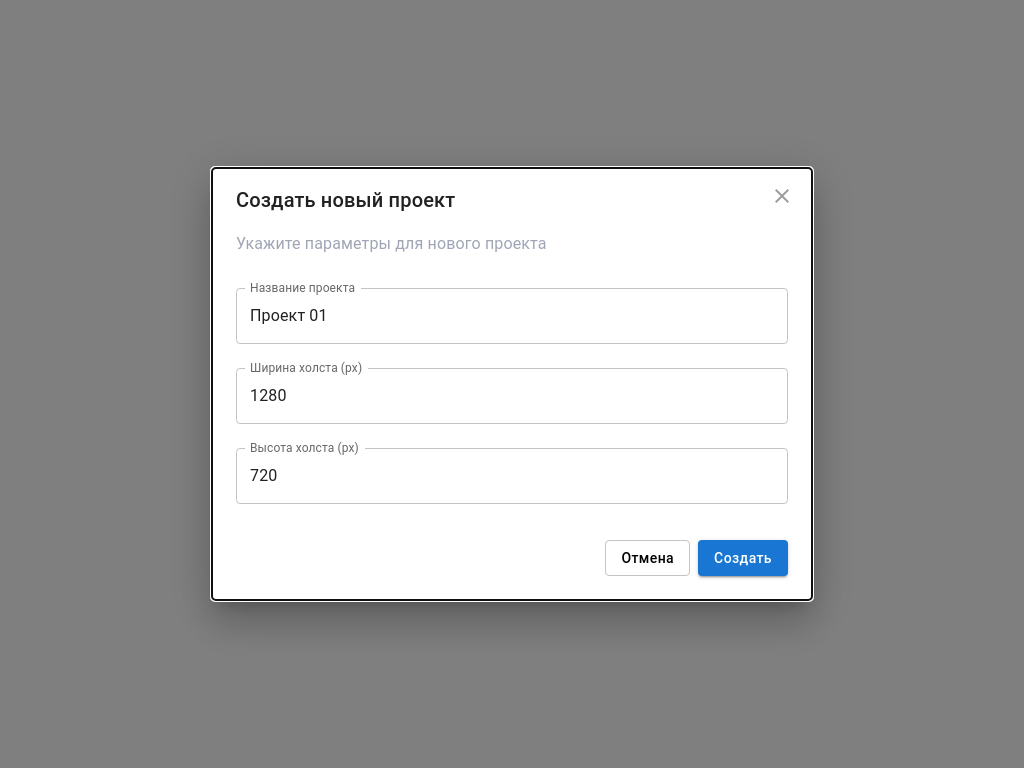
Test: Modal Component › validates name field – required & pattern
This screenshot has width=1024, height=768.
Clear the field labelled "Название проекта" at (512, 316), box [236,288,788,344]
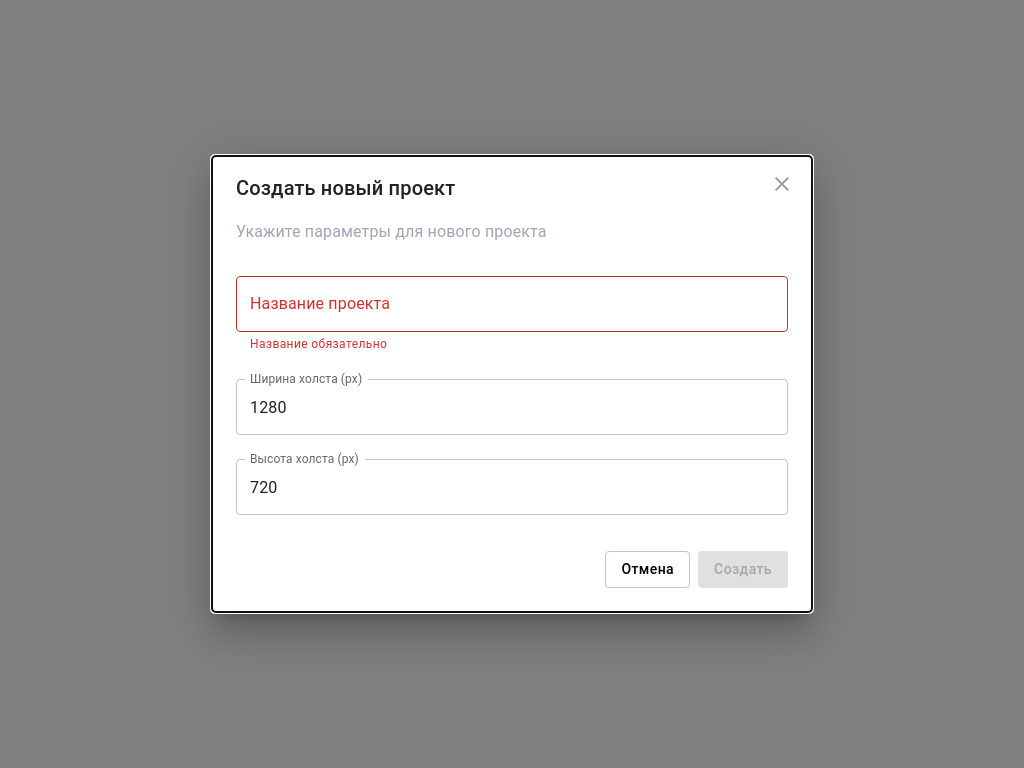
Check: the text "Название обязательно" is shown, box [250,337,387,351]
Type "@#$" into the field labelled "Название проекта" at (512, 304), box [236,276,788,332]
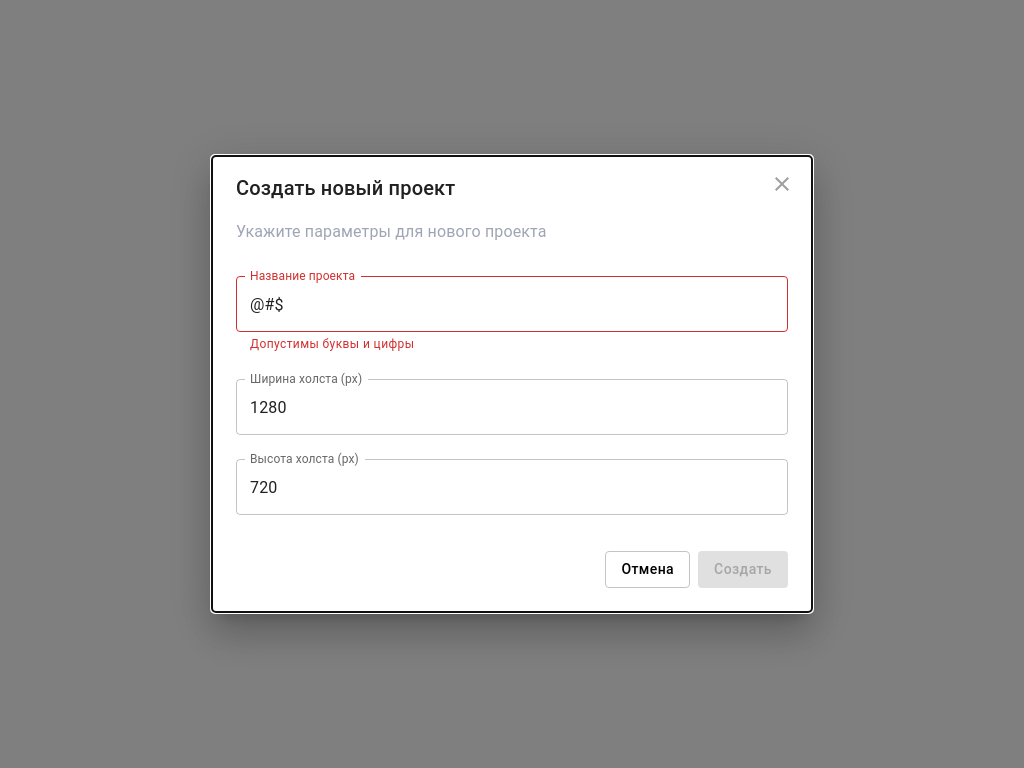
Check: the text "Допустимы буквы и цифры" is shown, box [250,337,414,351]
Replace the text in the field labelled "Название проекта" with "Проект123" at (512, 304), box [236,276,788,332]
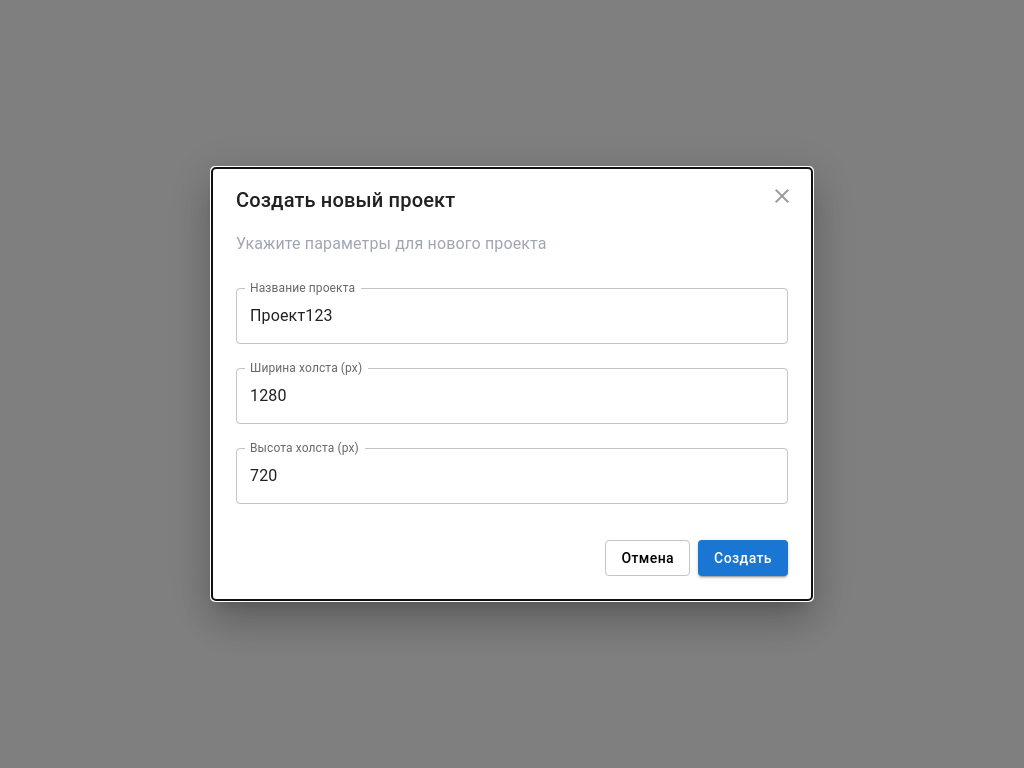
Check: the text "Допустимы буквы и цифры" is gone
